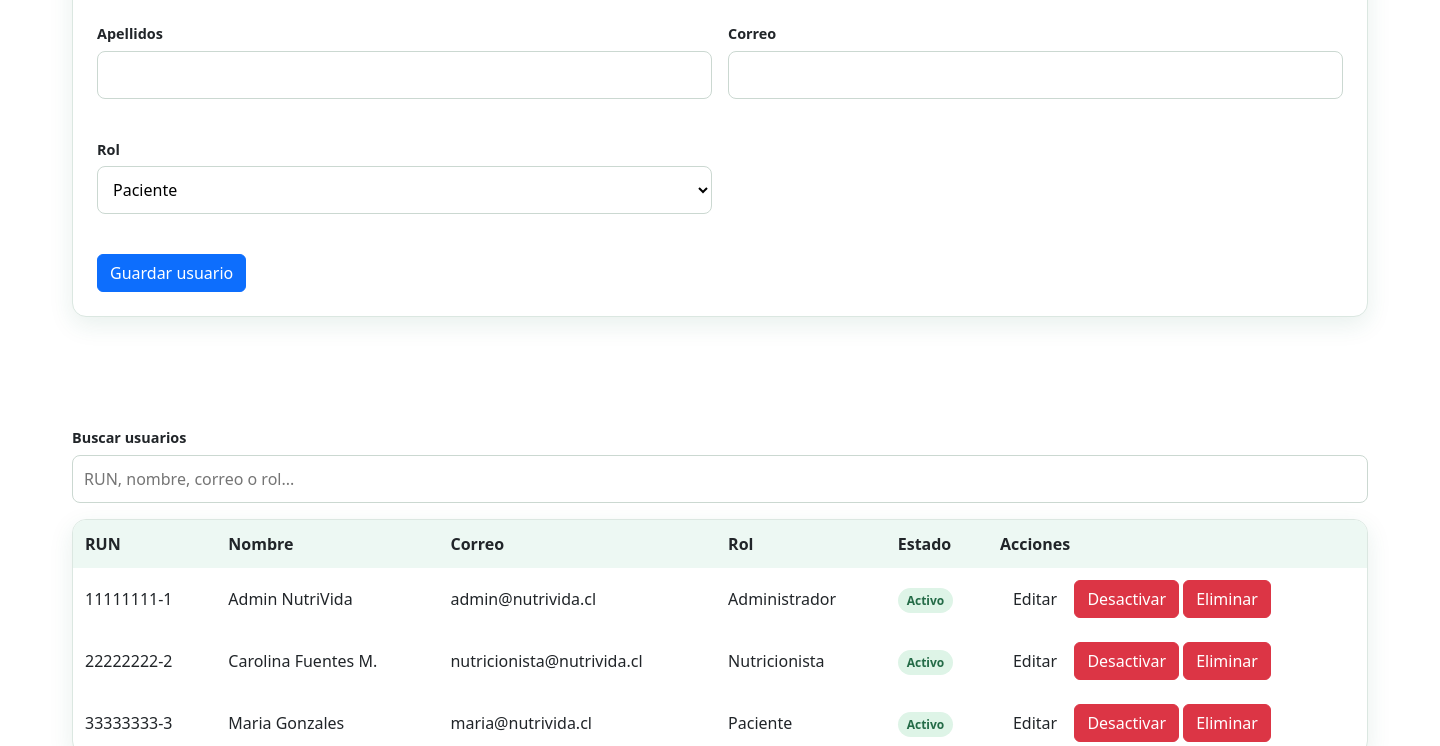
Test: AdminUsuarios › edita un usuario existente
(page scrolled)
Step 1. Click the button "Editar" in the row of "11111111-1" → (1035,599), box [1000,580,1070,618]
(page scrolled)
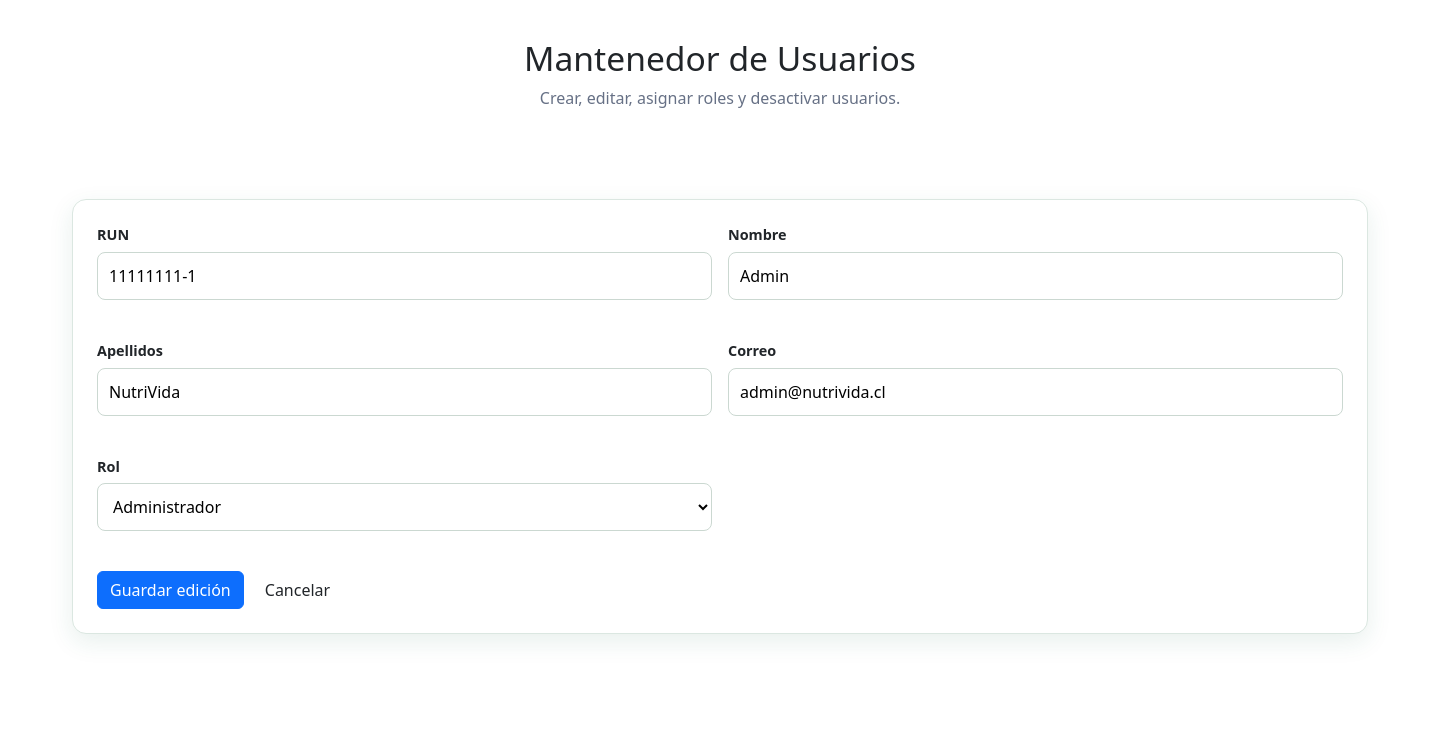
Step 2. Replace the text in the field labelled "Nombre" with "AdminEditado" → (1036,276), box [728,252,1343,300]
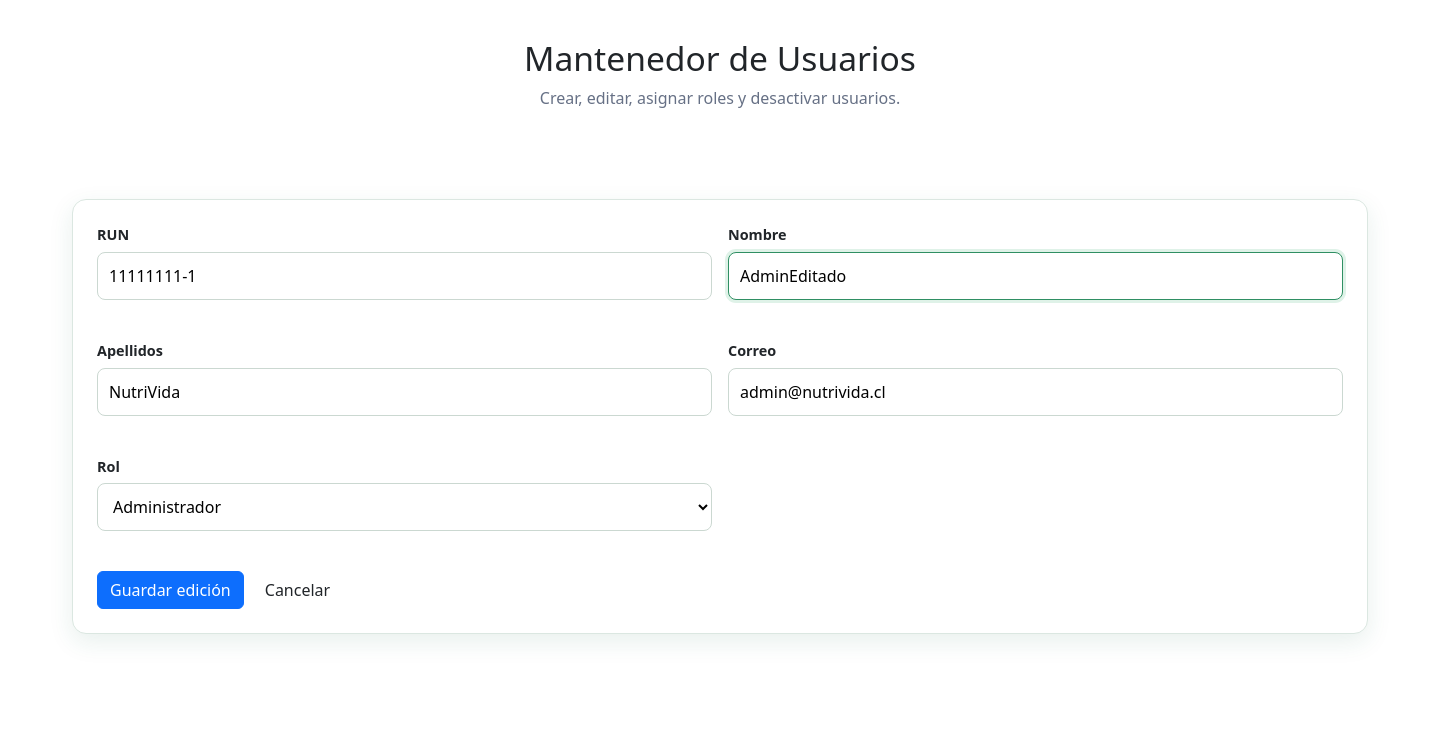
Step 3. Click the button "Guardar edición" → (170,590), box [97,571,244,609]
(page scrolled)
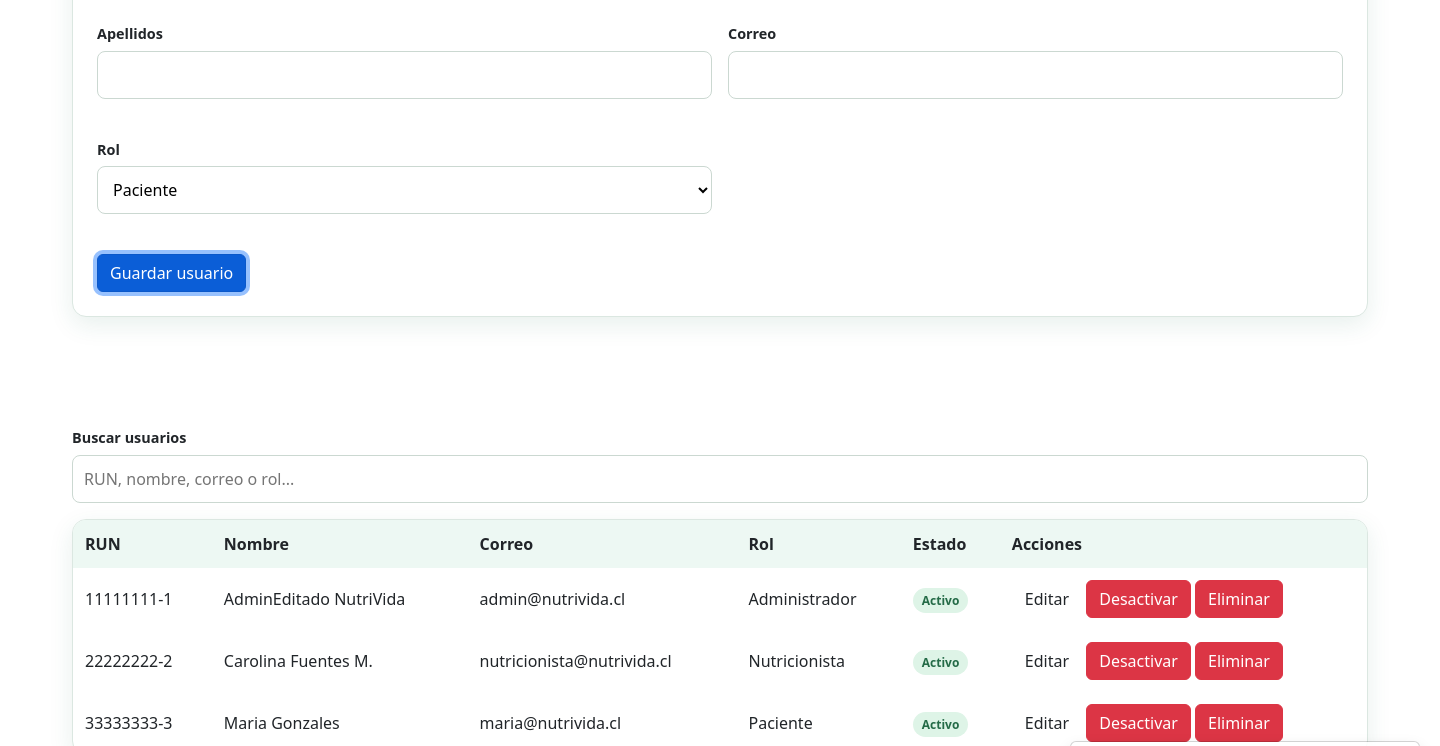
Now the text "AdminEditado NutriVida" is shown, box [212,568,468,630]
